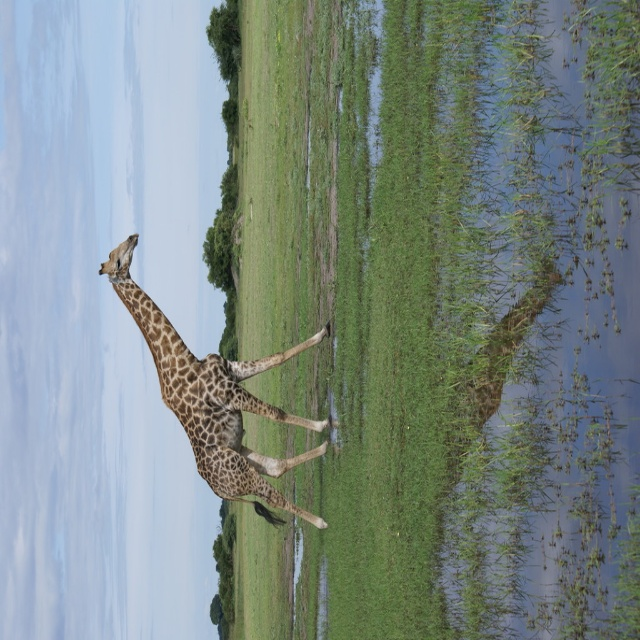Giraffe: (99, 222, 329, 528)
